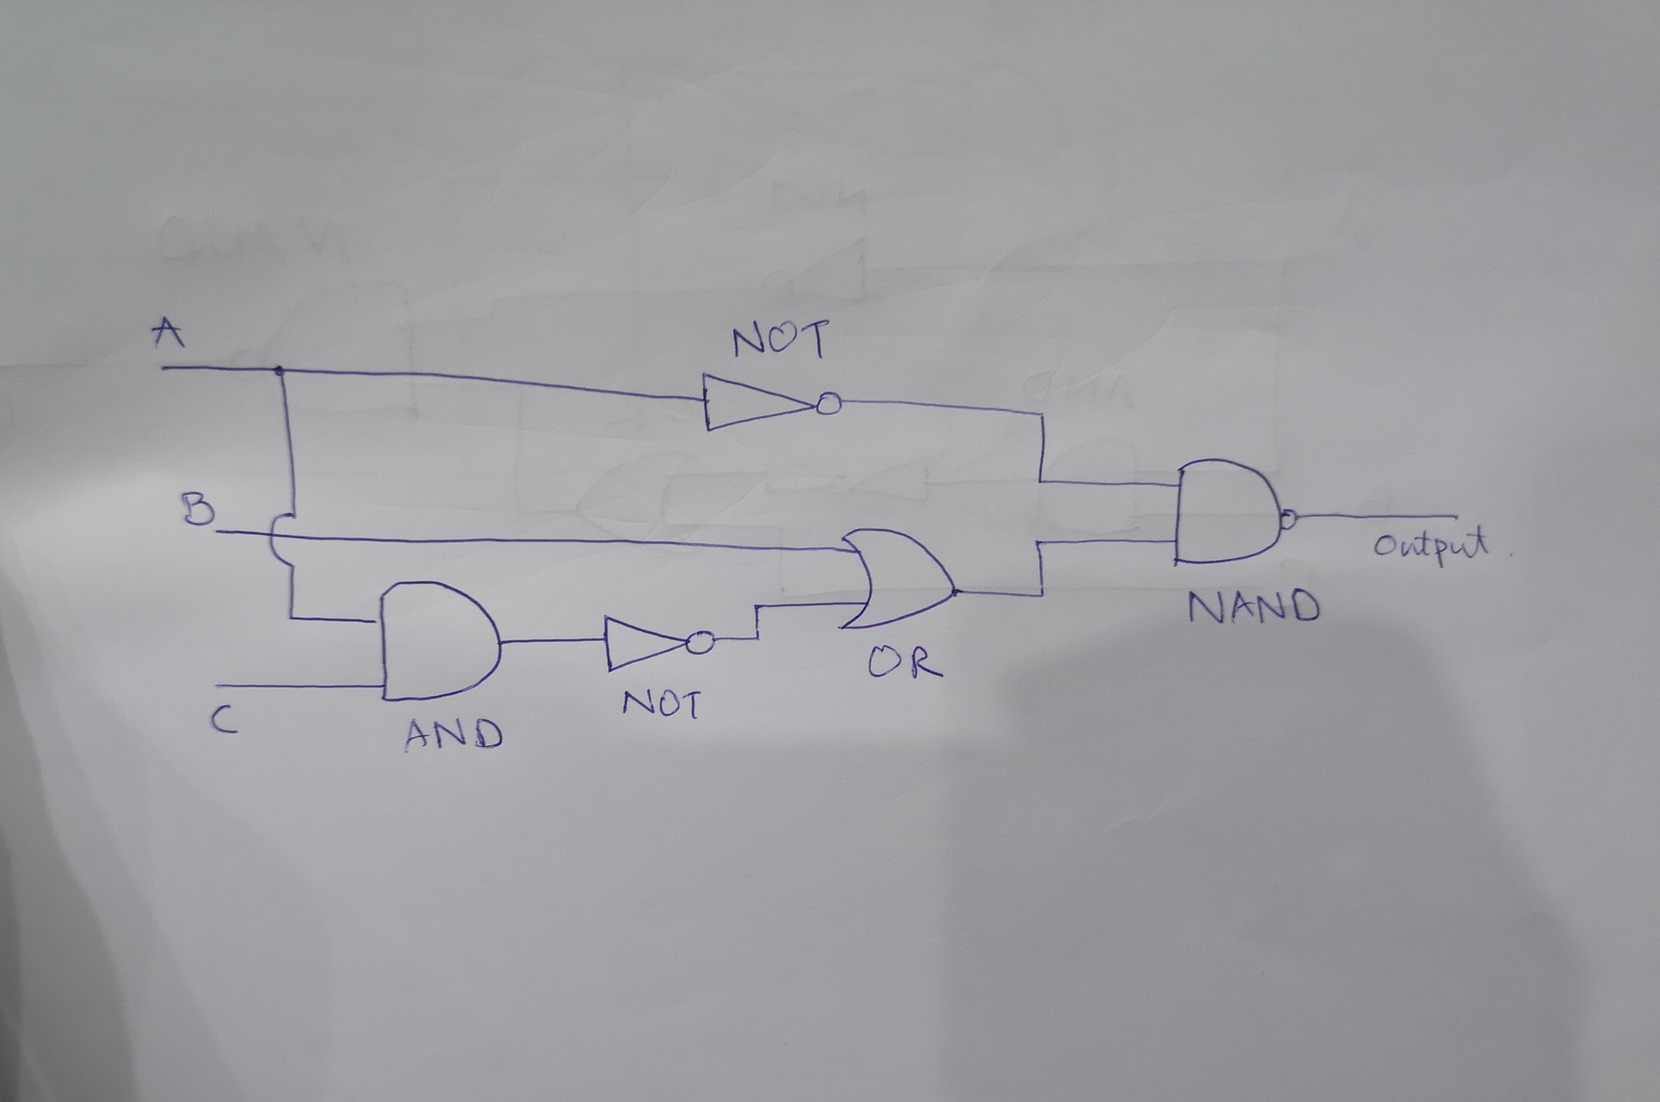and: (370, 574, 510, 704)
crossover: (262, 503, 304, 569)
junction: (266, 359, 291, 383), (1030, 405, 1053, 426), (282, 608, 301, 625), (1030, 472, 1049, 490), (1032, 585, 1051, 601), (1029, 535, 1046, 551), (750, 632, 765, 646), (748, 600, 764, 612)
nand: (1164, 454, 1307, 574)
not: (692, 367, 851, 437), (598, 608, 722, 676)
or: (831, 523, 966, 633)
terminal: (1445, 507, 1462, 524), (207, 520, 224, 537), (210, 676, 225, 692), (154, 362, 172, 374)
text: (1187, 584, 1326, 628), (1372, 521, 1493, 569), (729, 312, 837, 365), (405, 713, 507, 755), (864, 640, 947, 686), (619, 683, 706, 724), (178, 488, 218, 528), (149, 312, 188, 351), (205, 699, 242, 737)
